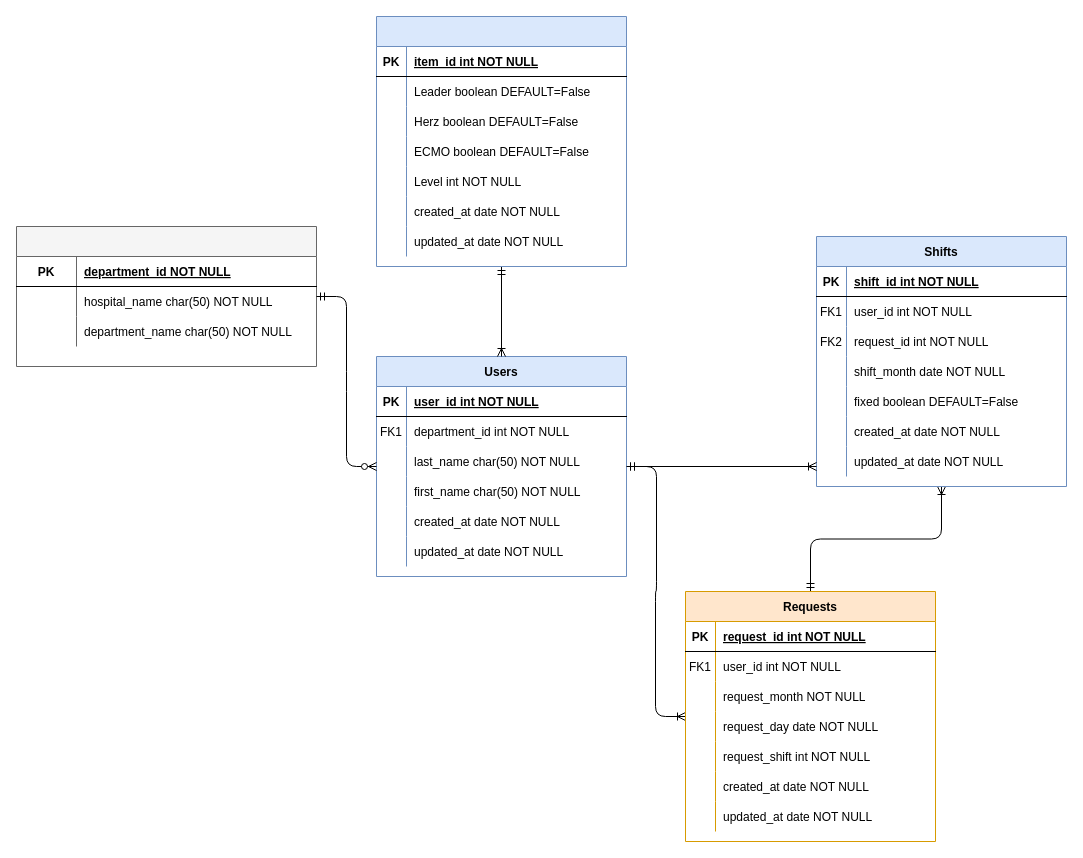
Image size: 1083x858. Some labels were removed from this diagram. The box of each missing label's shape, as (x1, y1, x2, y2) in pixels:
Departments: (16, 226, 316, 366)
Items: (376, 16, 626, 266)
